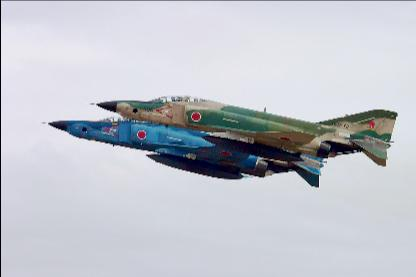F35: (85, 94, 397, 166), (38, 115, 326, 187)
